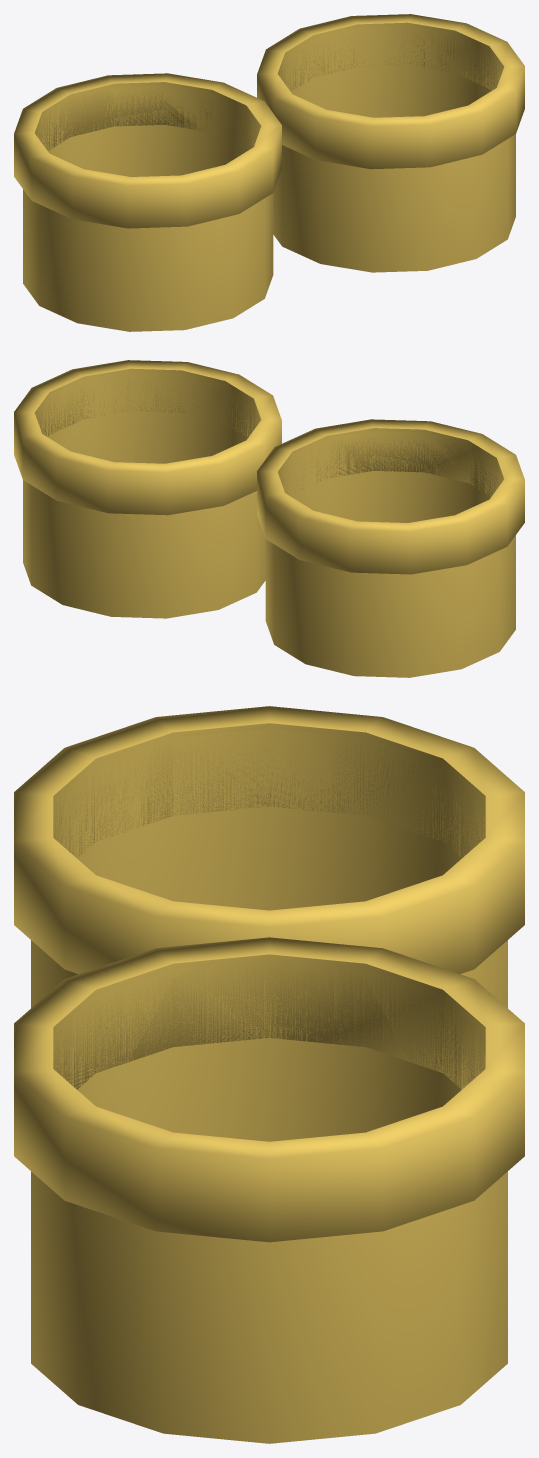
The model's file is nook_inc_socks.glb.
The picture shows the model from 3 angles, top to bottom: view 1: azimuth 30°, elevation 25°; view 2: azimuth 150°, elevation 25°; view 3: azimuth 270°, elevation 25°; orthographic projection. The views are drawn at different scales.
Visible parts, largest first — view 1: nook_inc_socks_LegL, nook_inc_socks_LegR; view 2: nook_inc_socks_LegL, nook_inc_socks_LegR; view 3: nook_inc_socks_LegR, nook_inc_socks_LegL.
Boxes of the visible parts, x1,y1,x2,y2 form: nook_inc_socks_LegL: (14,73,281,331); nook_inc_socks_LegR: (257,14,524,272); nook_inc_socks_LegL: (257,419,524,677); nook_inc_socks_LegR: (14,360,281,618); nook_inc_socks_LegR: (14,937,524,1443); nook_inc_socks_LegL: (14,706,524,1007).
Size of the model in its own units: 0.372 by 0.112 by 0.1774.
